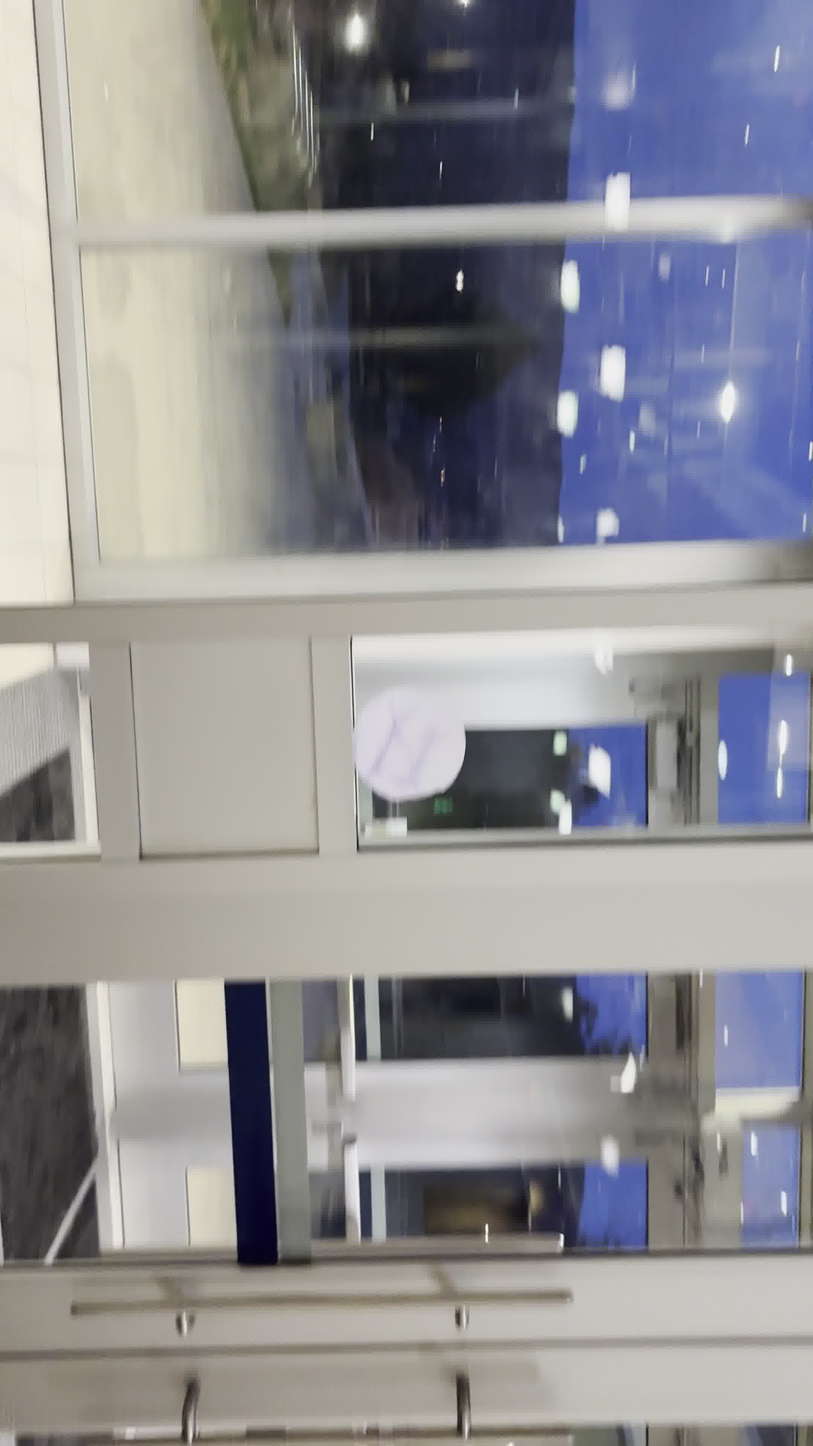Target: (348, 684, 468, 803)
